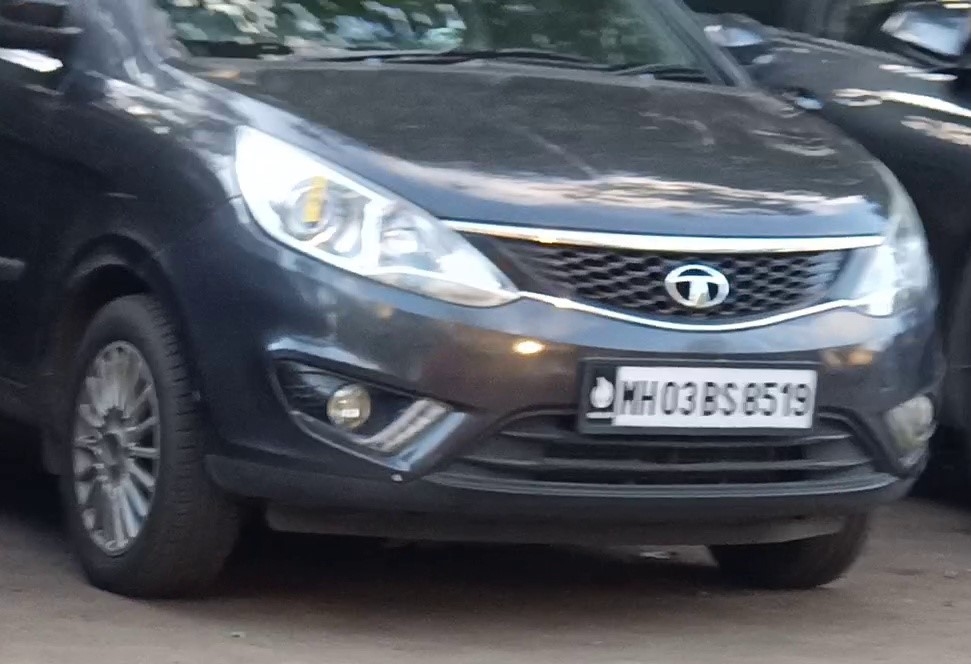MH03BS8519: (579, 360, 816, 430)
